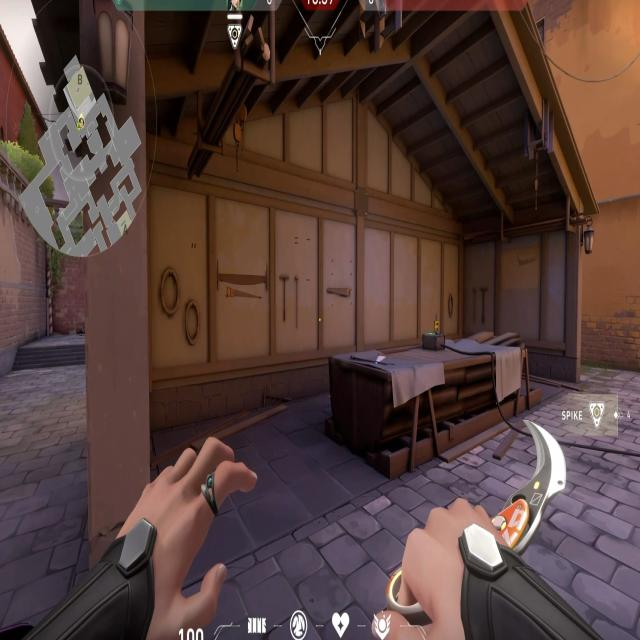B_Garage_Left: (109, 126, 298, 534)
B_Garage_Right: (421, 218, 589, 433)
